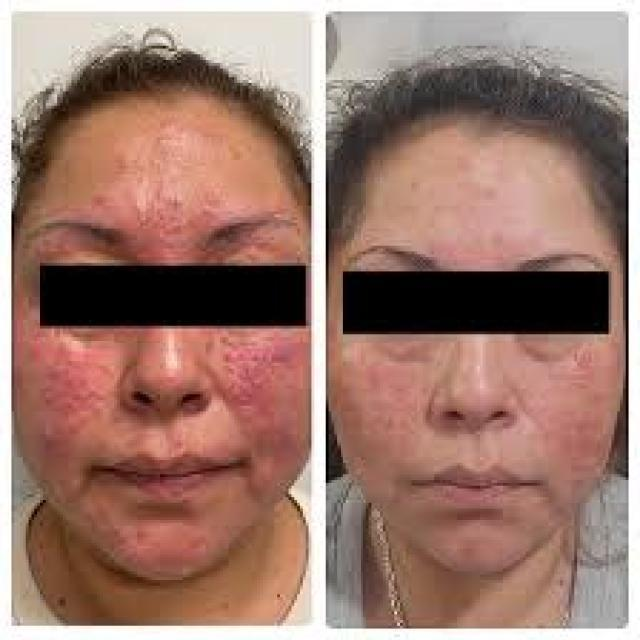Rosacea: (27, 339, 115, 442), (218, 334, 296, 450), (89, 512, 211, 576), (88, 181, 225, 233)
